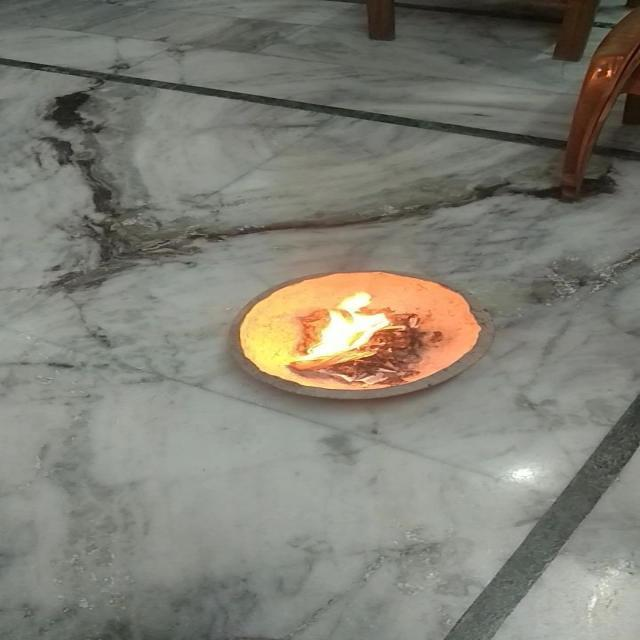smoke: (292, 287, 406, 365)
